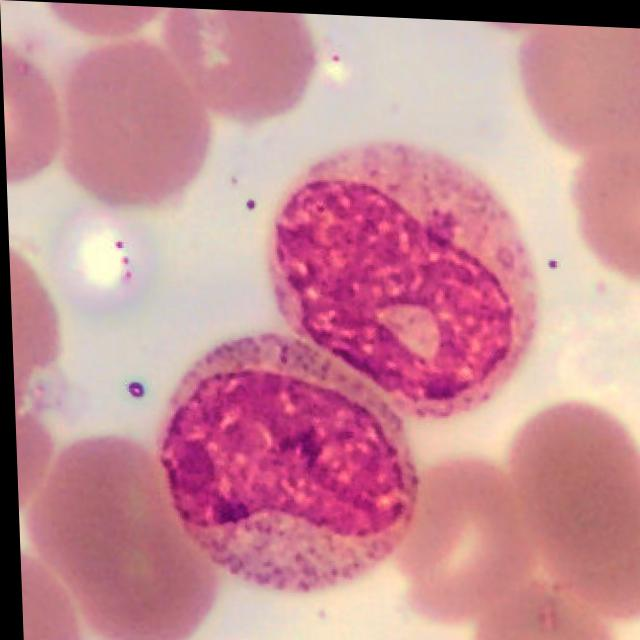Metamielocito: (155, 331, 413, 593)
Mielocito: (265, 139, 537, 416)
